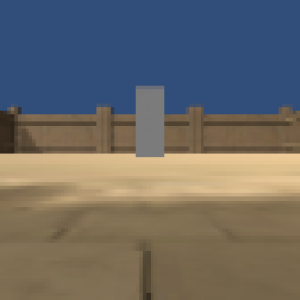wall: (135, 84, 166, 158)
